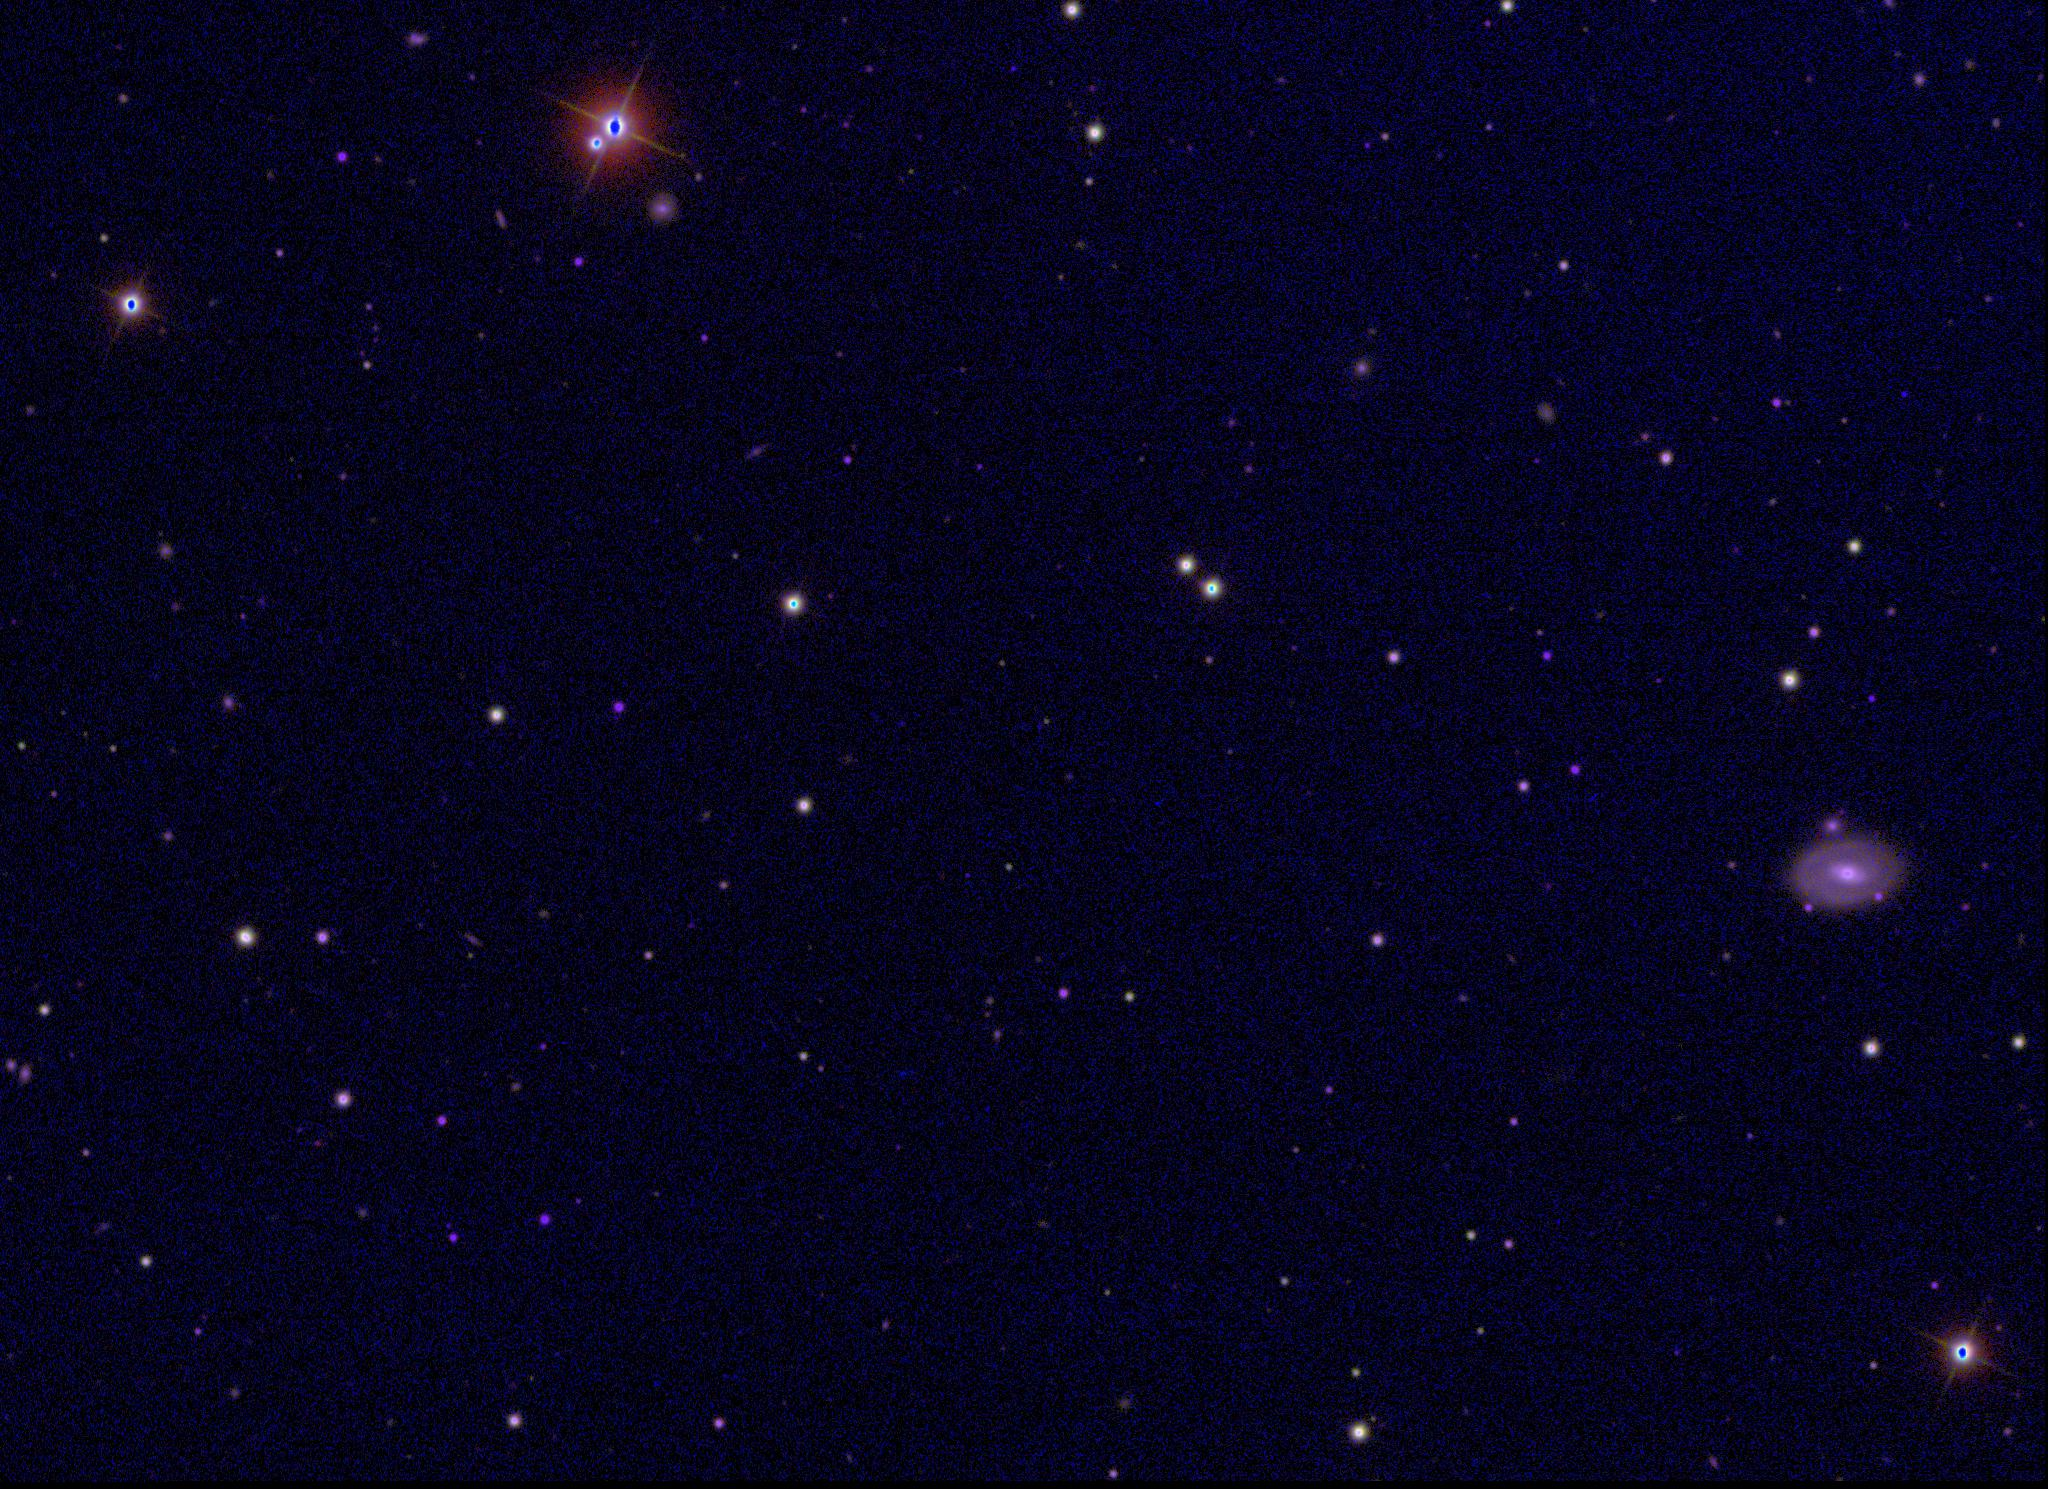L: (1895, 388, 1910, 402)
